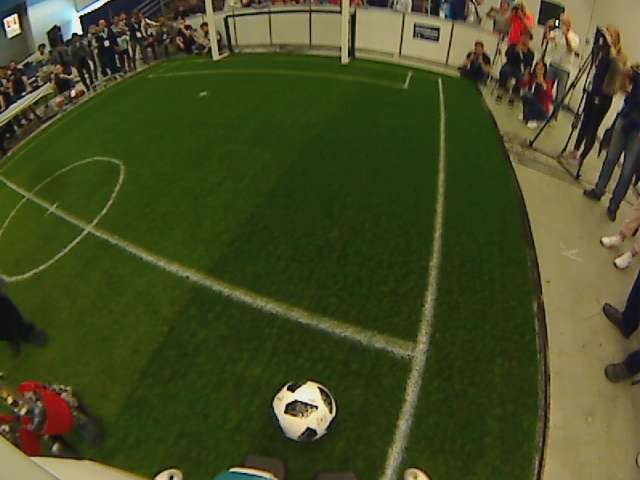ball: (270, 377, 337, 446)
